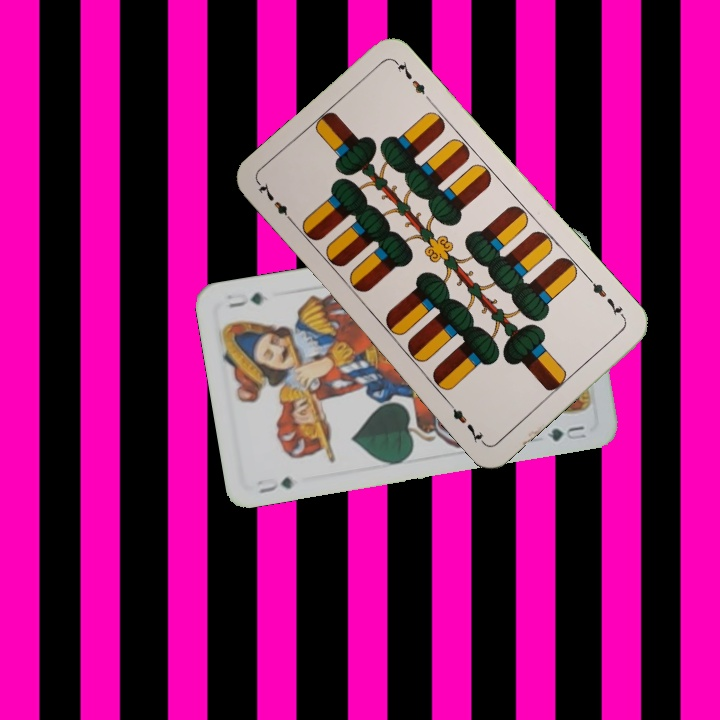E7: (584, 274, 628, 323), (254, 179, 298, 228)
GU: (253, 473, 295, 496)
